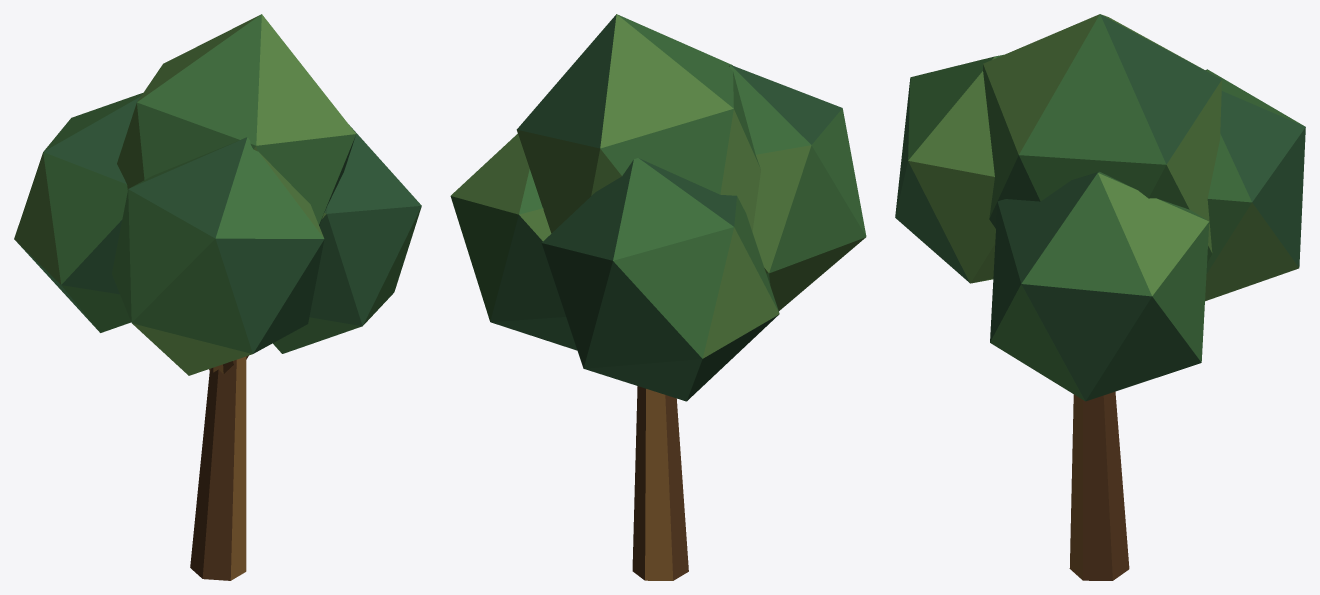
The model's file is SM_Tree_Round.glb.
3 views of the same model, side by side, from view 1: azimuth 30°, elevation 25°; view 2: azimuth 150°, elevation 25°; view 3: azimuth 270°, elevation 25° (orthographic). The views are drawn at different scales.
Visible parts, largest first — view 1: SM_Tree_Round; view 2: SM_Tree_Round; view 3: SM_Tree_Round.
Part boxes in pixels (bbox=[...]): SM_Tree_Round: bbox=[14, 14, 421, 580]; SM_Tree_Round: bbox=[450, 14, 866, 580]; SM_Tree_Round: bbox=[895, 14, 1305, 580].
Bounding box in the file's own units: 4.06 × 6.41 × 4.12.
Materials: 1 (1 with a texture image).
